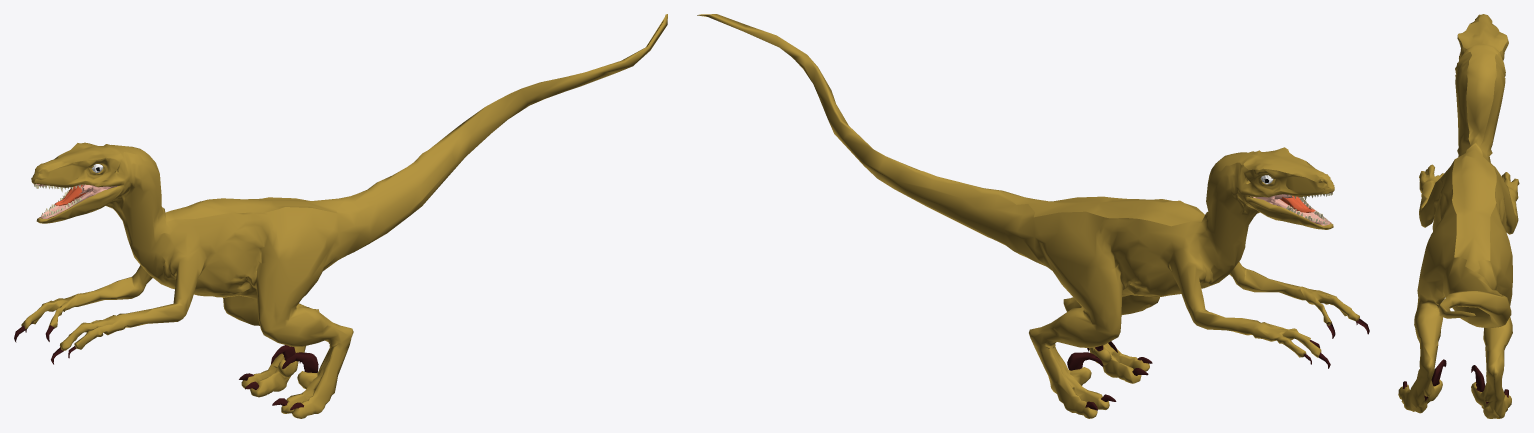
The model's file is Dino.obj.
The picture shows the model from 3 angles, left to right: view 1: azimuth 30°, elevation 25°; view 2: azimuth 150°, elevation 25°; view 3: azimuth 270°, elevation 25°; orthographic projection.
Visible parts, largest first — view 1: mesh_0, mesh_4; view 2: mesh_0, mesh_4; view 3: mesh_0, mesh_4.
Part boxes in pixels (left/top/right/bottom): mesh_0: left=21, top=14, right=667, bottom=418; mesh_4: left=14, top=322, right=318, bottom=410; mesh_0: left=697, top=14, right=1359, bottom=418; mesh_4: left=1067, top=318, right=1369, bottom=410; mesh_0: left=1398, top=14, right=1519, bottom=418; mesh_4: left=1402, top=359, right=1508, bottom=404.
Bounding box in the file's own units: 149 × 64.46 × 24.36.
